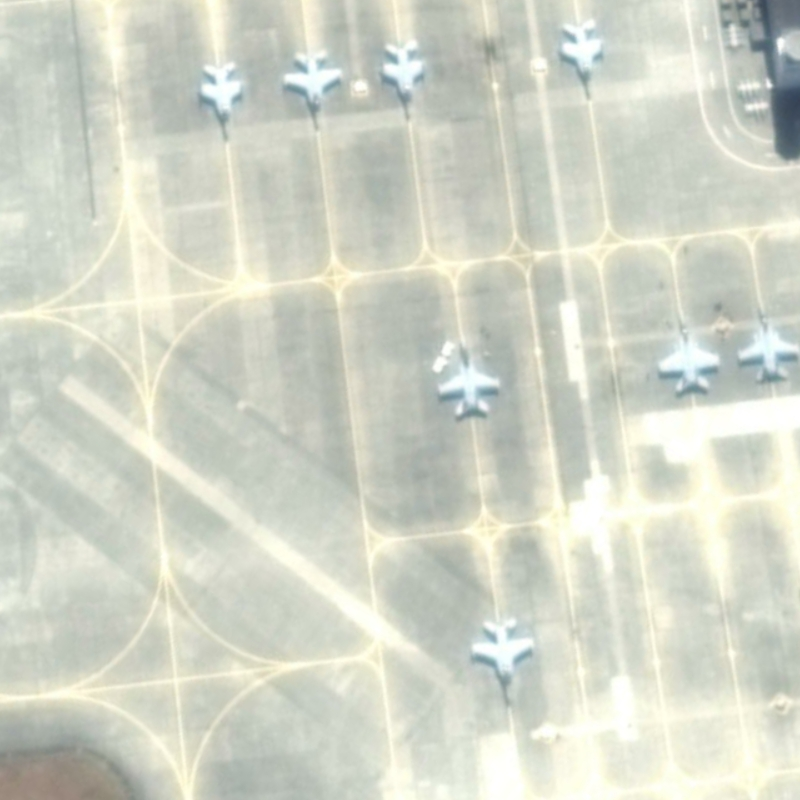A16: (460, 609, 546, 716), (642, 300, 730, 400), (426, 326, 508, 427), (726, 287, 800, 390), (276, 40, 349, 137), (549, 12, 620, 105), (372, 32, 436, 128), (195, 54, 252, 146)
